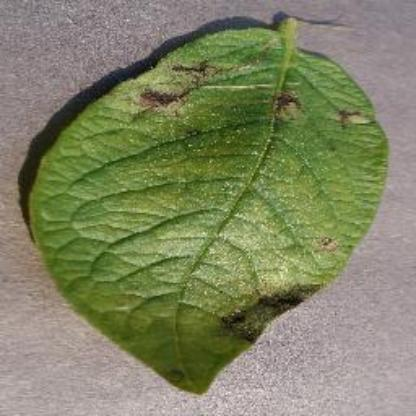Late-Blight: (22, 13, 396, 394)
